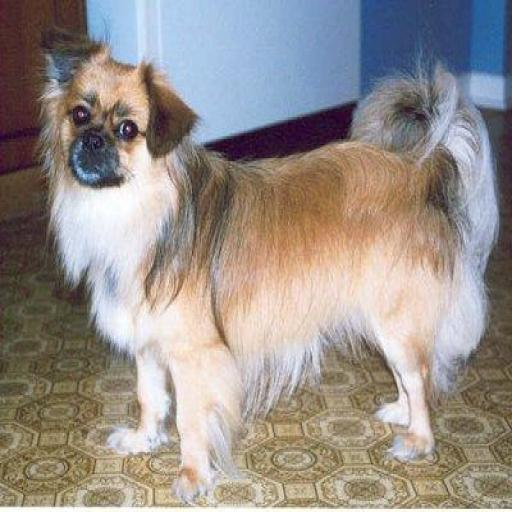dog_face: (38, 50, 182, 195)
